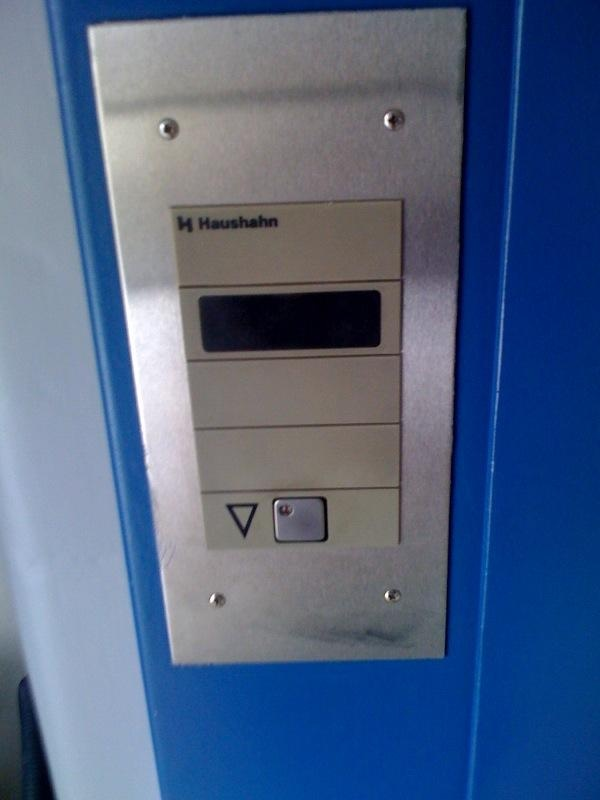down: (195, 483, 404, 551)
led: (195, 287, 387, 353)
